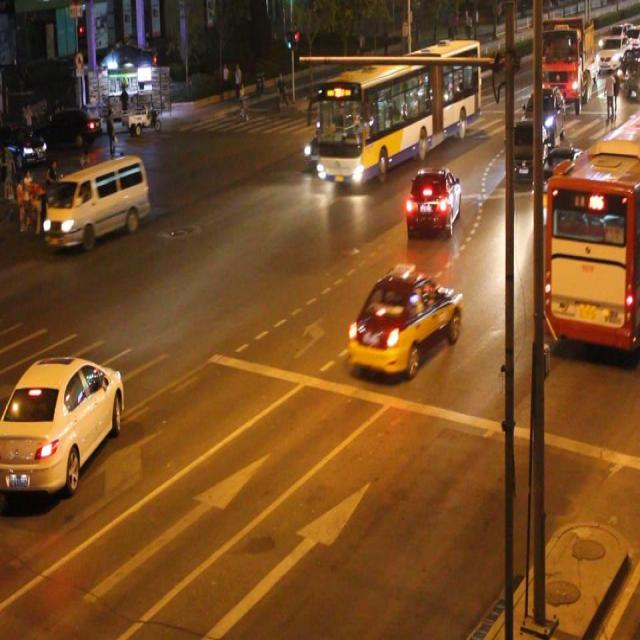car: (0, 358, 124, 494), (347, 268, 459, 373), (404, 165, 459, 240), (532, 145, 584, 209), (304, 113, 360, 166), (504, 122, 545, 186)
truck: (43, 154, 149, 248)
van: (320, 40, 478, 177), (547, 114, 640, 346)
